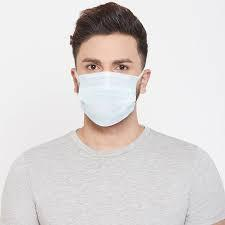mask: (76, 68, 141, 128)
